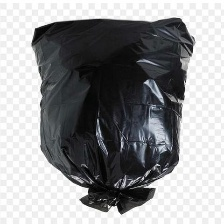plastic_bag: (28, 9, 201, 218)
